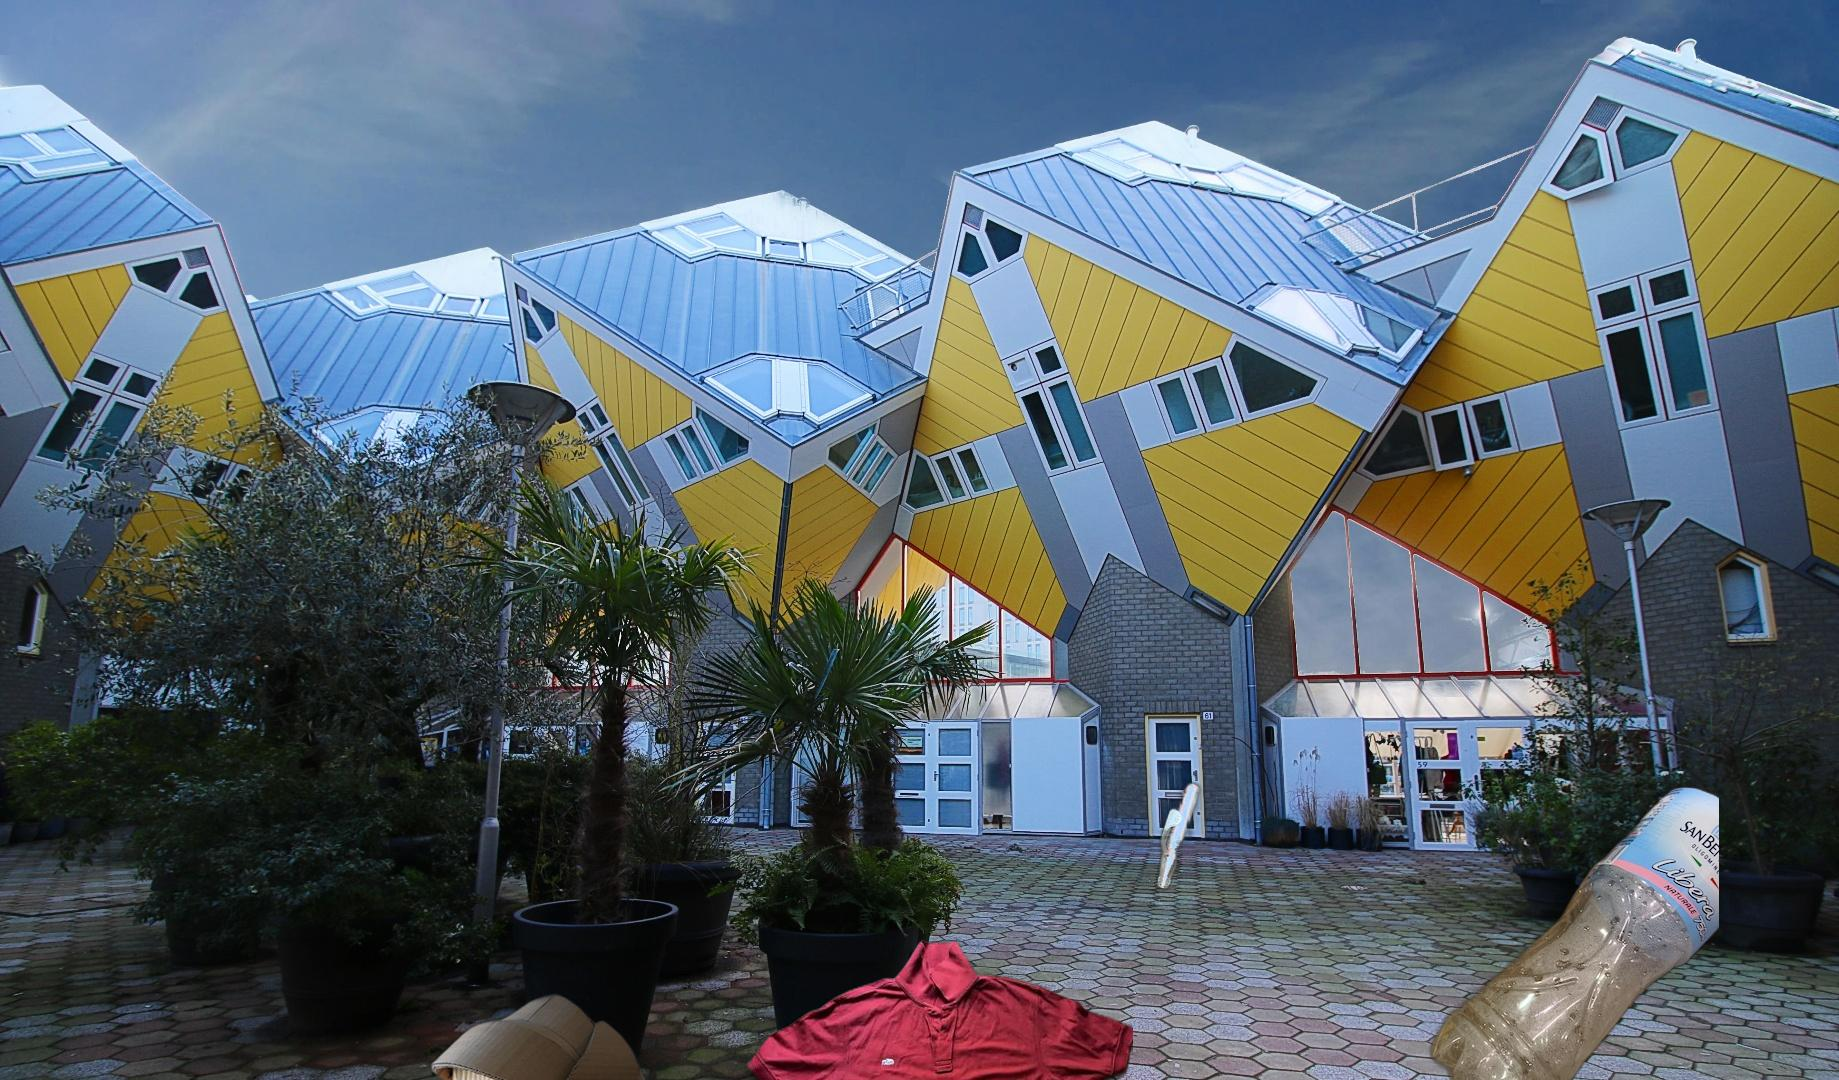clothes: (739, 936, 1133, 1080)
glass: (1153, 777, 1205, 896)
plastic-bottles: (1376, 783, 1719, 1080)
trashbox-cardboard: (150, 989, 751, 1080)
